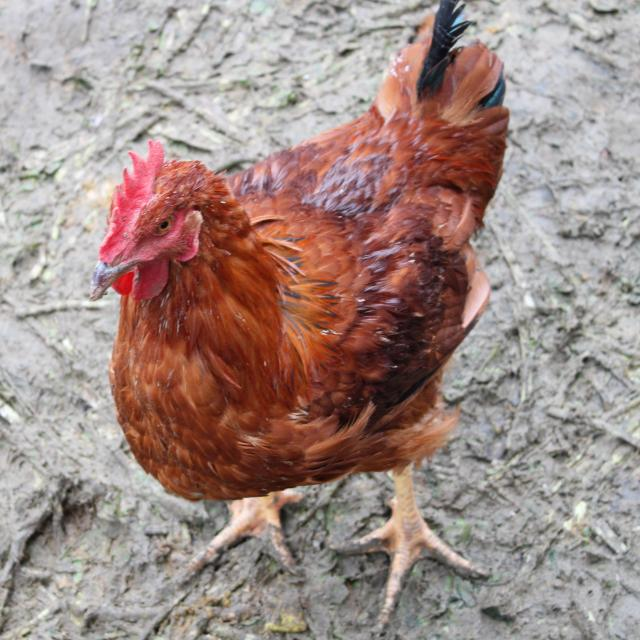cook: (75, 0, 514, 634)
